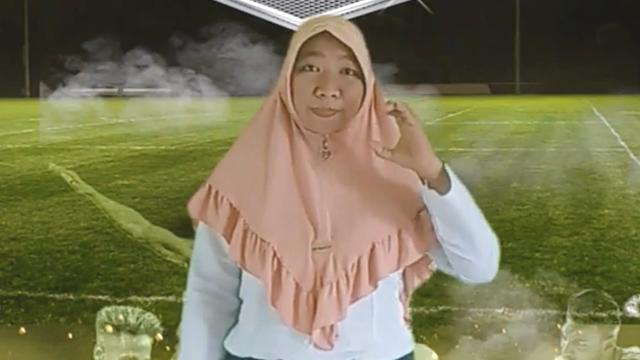C: (368, 99, 436, 174)
